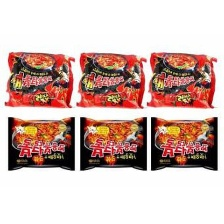snack: (141, 49, 221, 112), (0, 48, 77, 113), (2, 113, 79, 177), (145, 113, 223, 176), (72, 49, 150, 112), (74, 113, 149, 178)
